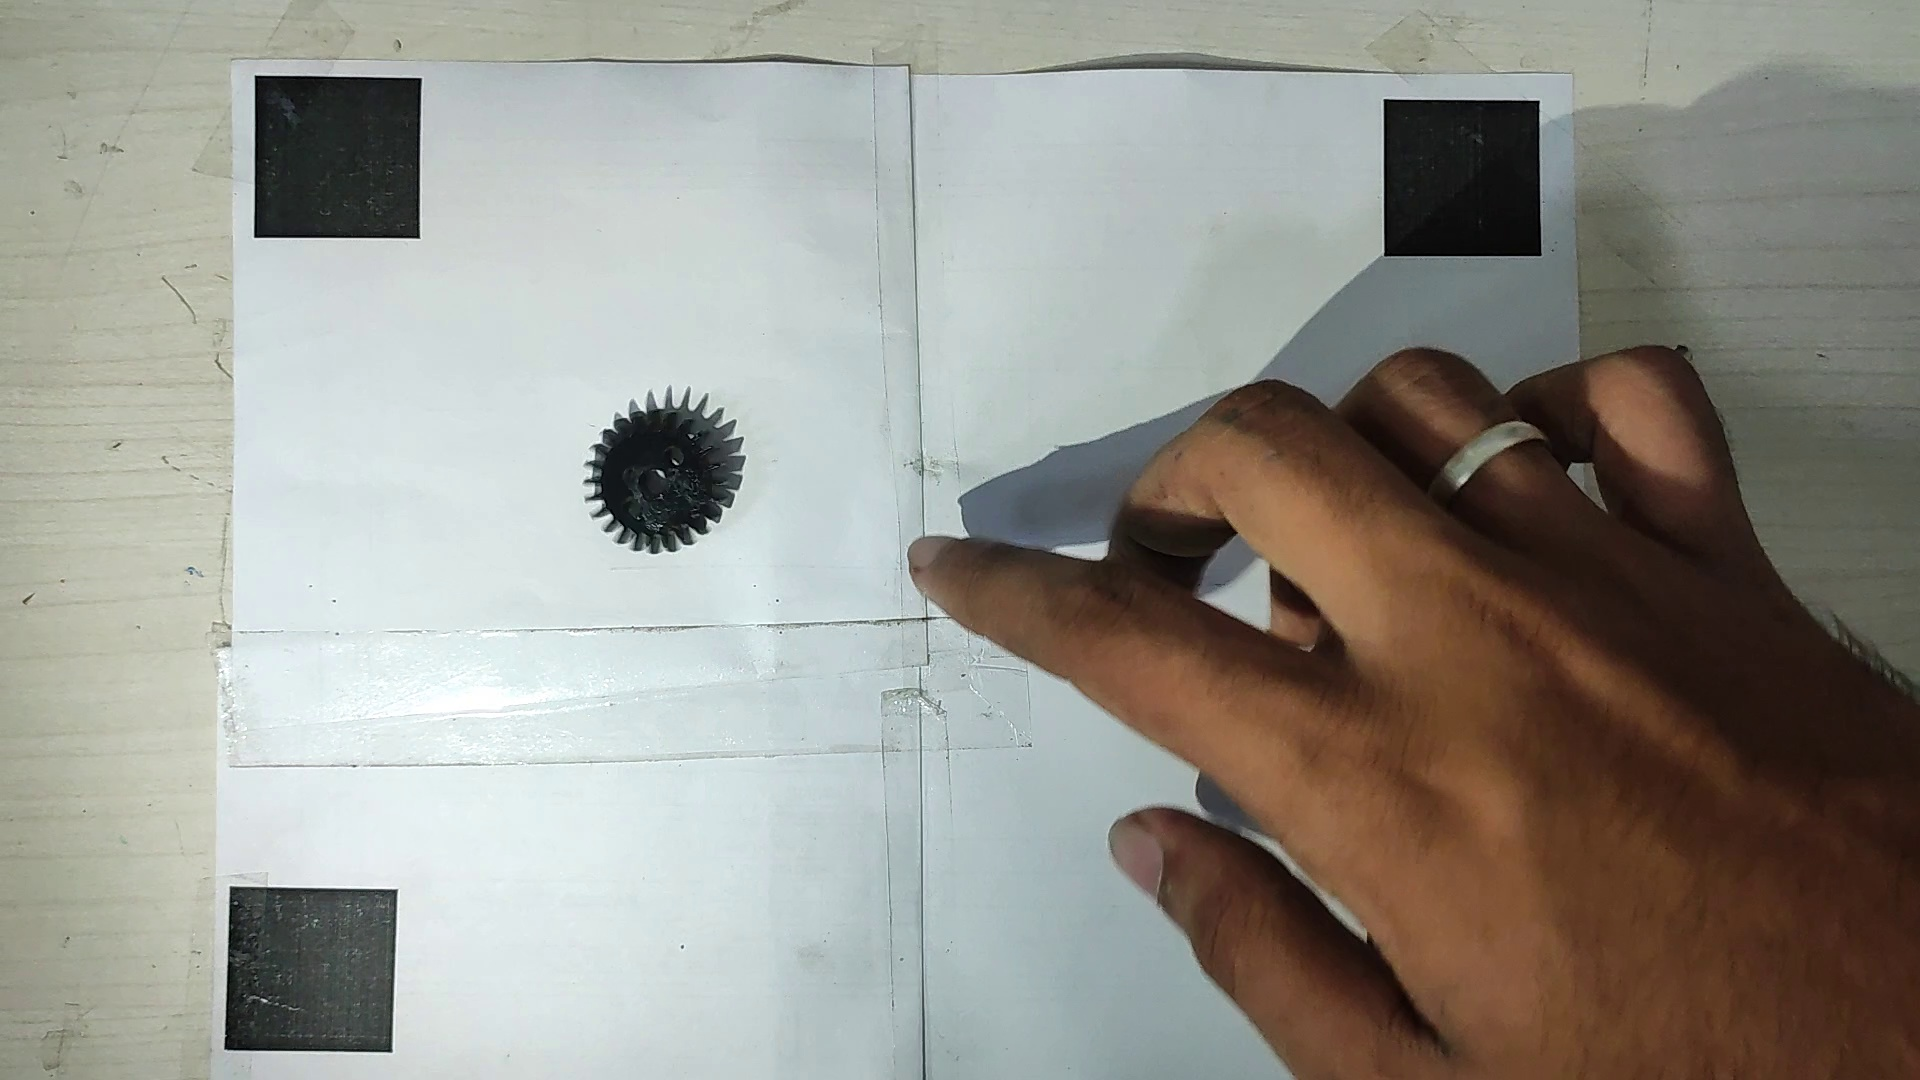Gear: (577, 402, 739, 555)
